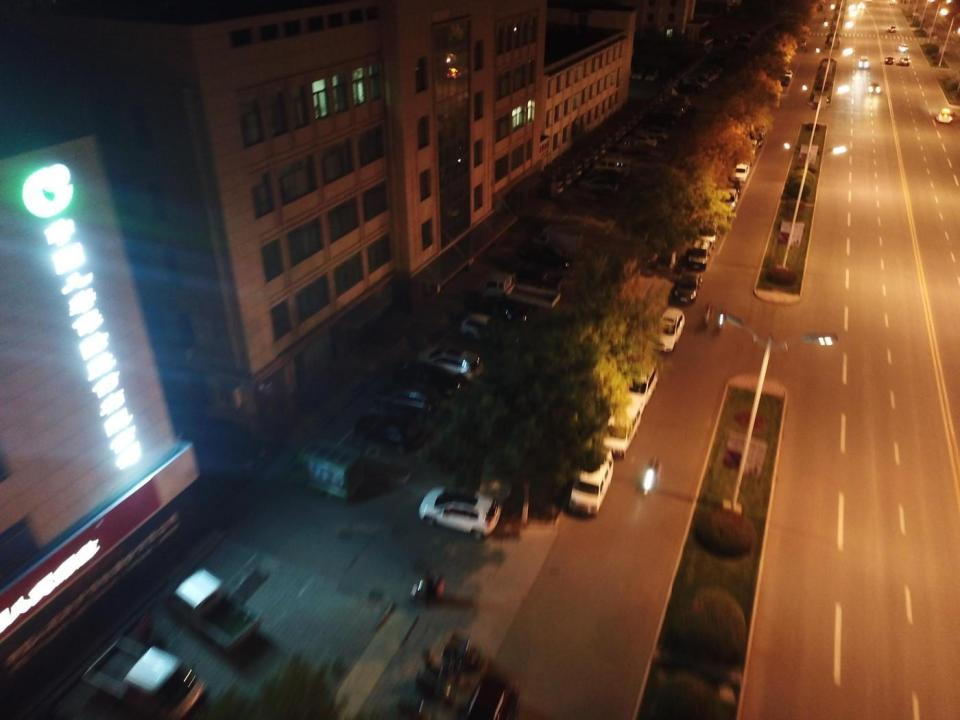car: (419, 486, 502, 540), (198, 424, 265, 469), (354, 415, 426, 452), (612, 356, 657, 412), (393, 361, 461, 398), (417, 343, 481, 382), (372, 386, 436, 419), (459, 312, 513, 346), (650, 307, 684, 353), (479, 299, 530, 322), (523, 248, 571, 270), (674, 269, 702, 304), (695, 208, 720, 241), (579, 177, 618, 197), (687, 240, 711, 270), (719, 188, 738, 210), (746, 123, 764, 146), (589, 169, 619, 182), (628, 134, 655, 148), (641, 127, 667, 141), (732, 163, 750, 183), (619, 141, 645, 154), (646, 114, 672, 127), (662, 100, 685, 114), (656, 106, 680, 119), (695, 67, 719, 80), (724, 179, 740, 197), (741, 139, 757, 157), (676, 84, 702, 94), (664, 96, 690, 106), (706, 56, 728, 67), (692, 71, 712, 83), (683, 77, 704, 88), (700, 62, 721, 73), (937, 109, 953, 122), (644, 68, 659, 81), (632, 66, 644, 79), (738, 30, 756, 38), (708, 37, 726, 45), (858, 55, 869, 68), (797, 34, 807, 48), (868, 83, 881, 93), (733, 42, 750, 49), (734, 36, 750, 43), (779, 76, 789, 87), (783, 69, 793, 80), (897, 43, 908, 53), (900, 56, 910, 66), (888, 25, 896, 33), (886, 57, 894, 64), (858, 2, 865, 10), (889, 0, 896, 5), (867, 0, 873, 3)
truck: (80, 635, 207, 720), (168, 569, 264, 652), (480, 272, 561, 314), (532, 224, 584, 253)
van: (285, 439, 364, 501), (568, 447, 613, 516), (465, 672, 517, 720), (598, 402, 640, 457), (596, 160, 630, 177)
